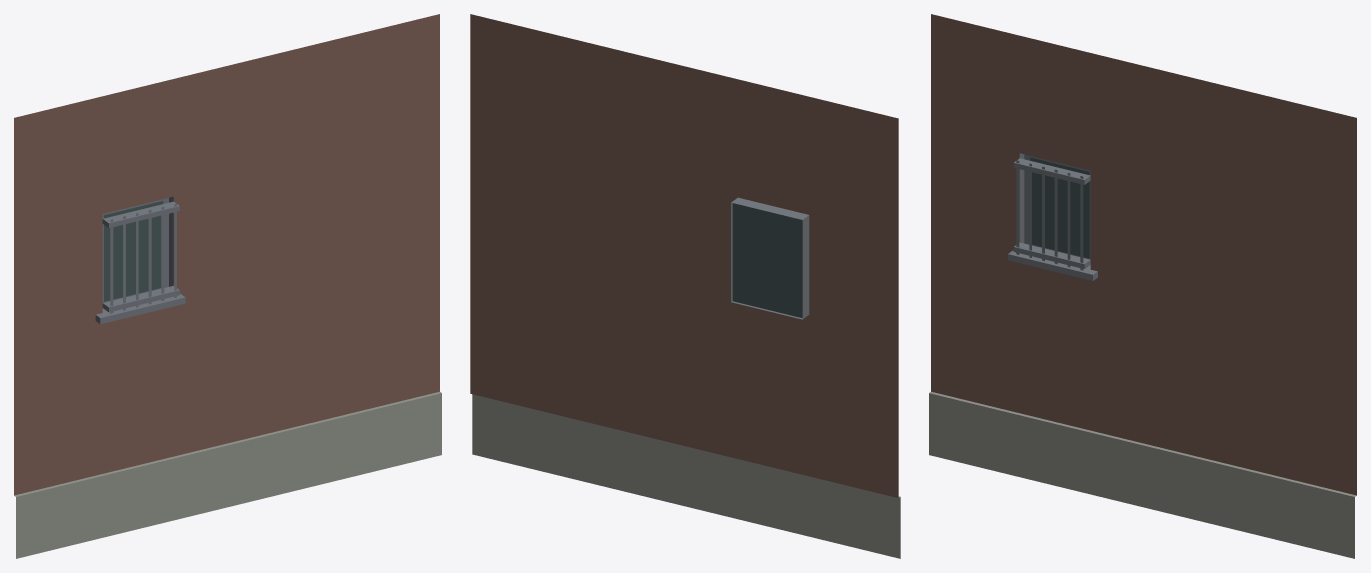
The picture shows the model from 3 angles, left to right: view 1: azimuth 30°, elevation 25°; view 2: azimuth 150°, elevation 25°; view 3: azimuth 330°, elevation 25°; orthographic projection.
Visible parts, largest first — view 1: a2000s2/0/base-w2; view 2: a2000s2/0/base-w2; view 3: a2000s2/0/base-w2.
Boxes of the visible parts, bbox=[...] form: a2000s2/0/base-w2: bbox=[14, 14, 441, 558]; a2000s2/0/base-w2: bbox=[470, 14, 900, 558]; a2000s2/0/base-w2: bbox=[929, 14, 1356, 558].
Size of the model in its own units: 3.6 by 3.55 by 0.19.
